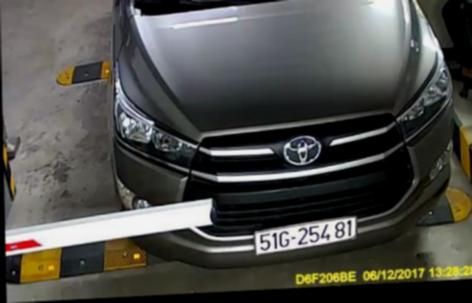License_Plate: (251, 219, 361, 258)
